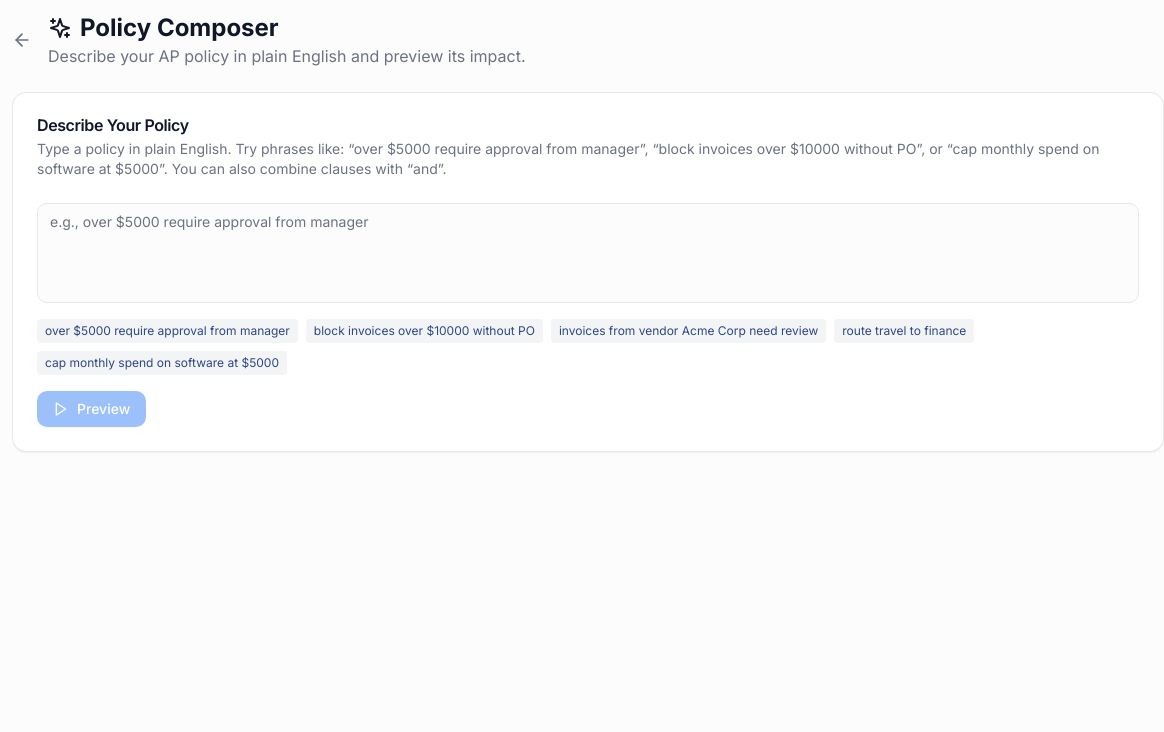
PolicyComposerPage › displays error when compose fails
Type "make everything go faster" into the text box with test id "policy-text-input" at (588, 253), box left=37, top=203, right=1139, bottom=303
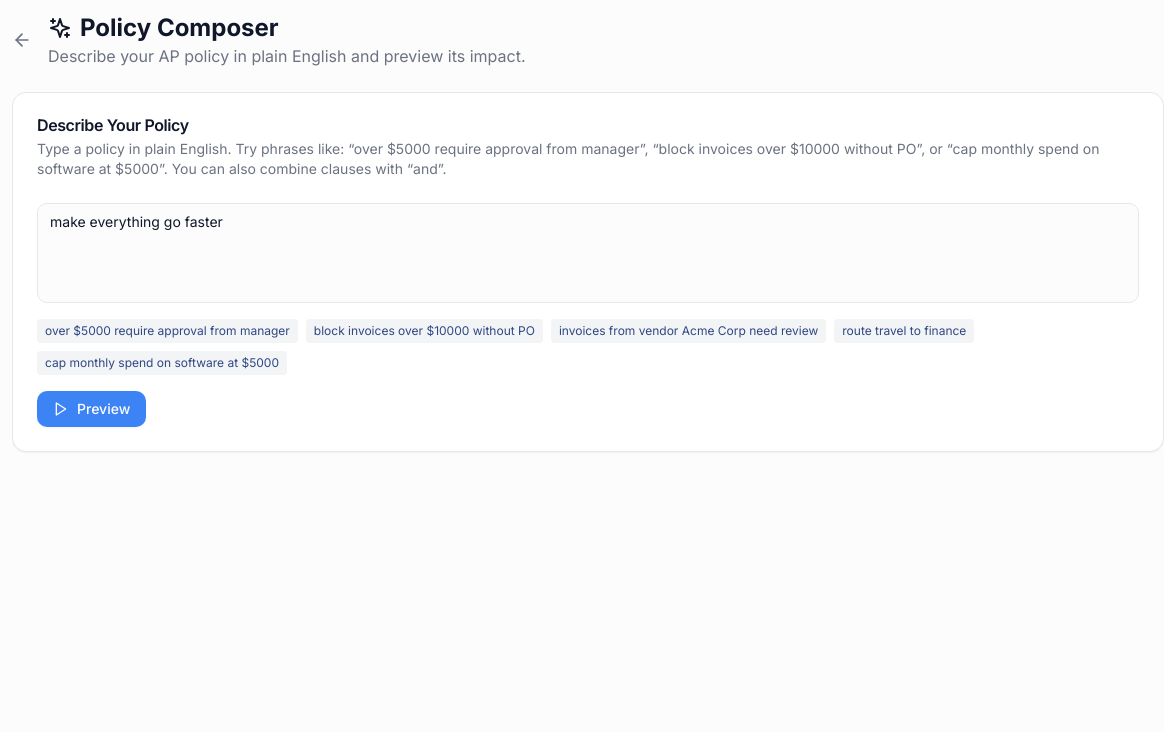
Click the button with test id "preview-btn" at (92, 409), box left=37, top=391, right=146, bottom=427
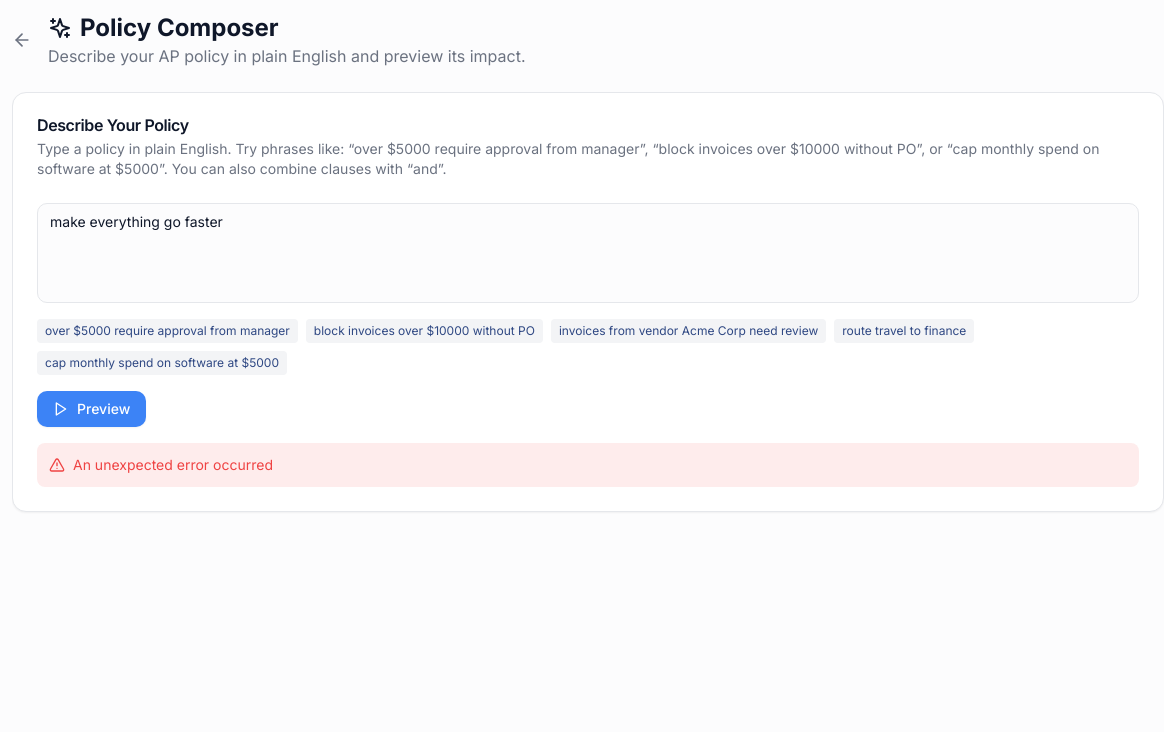
Check: the element with test id "error-message" is shown, box left=37, top=443, right=1139, bottom=487
